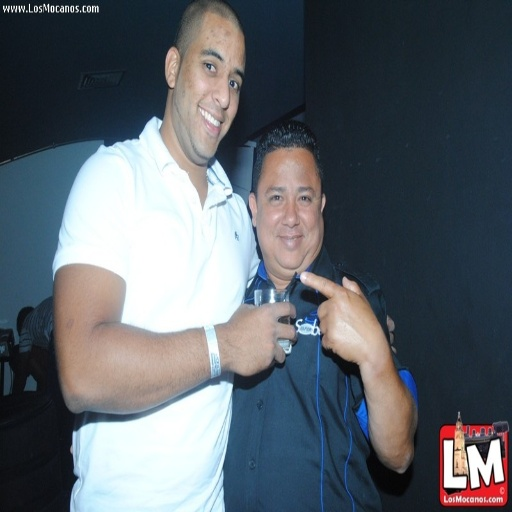hand: (293, 256, 407, 446), (223, 298, 299, 379)
